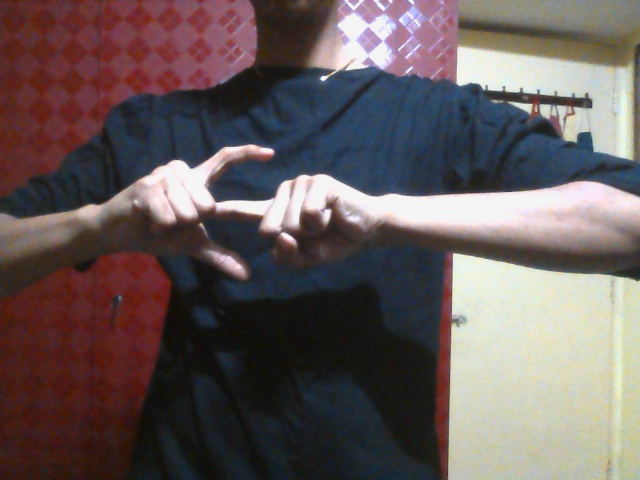E: (118, 143, 387, 285)
